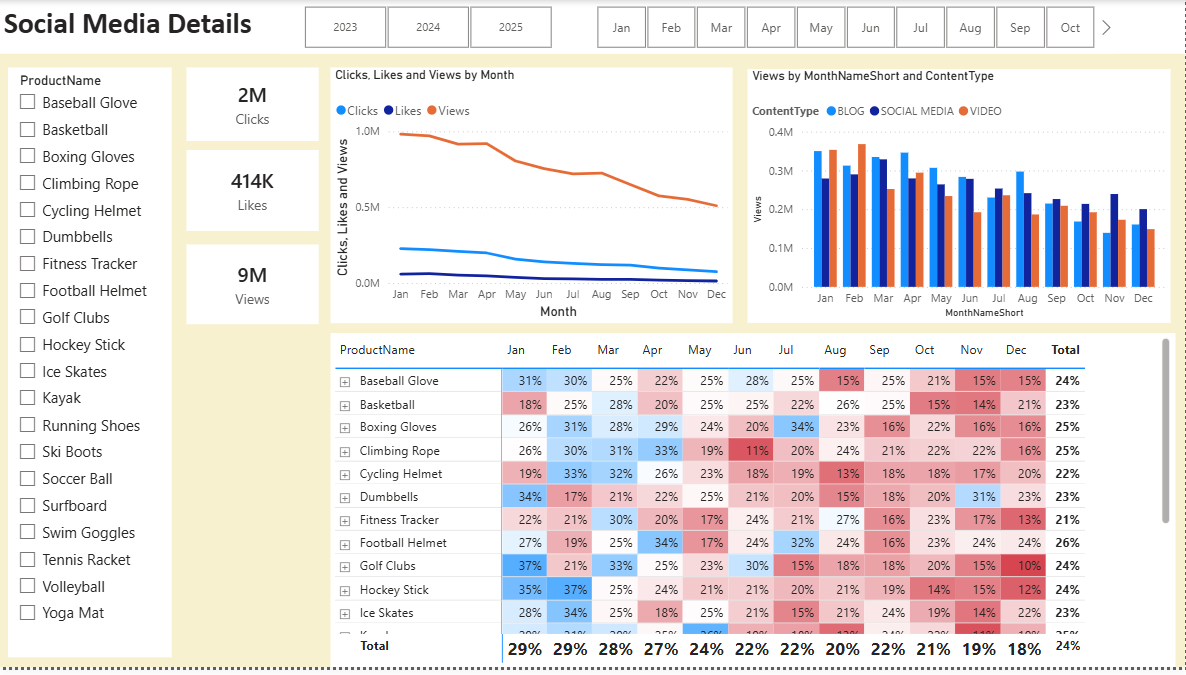

Layout of this report page (visuals, bound fields, positions):
{"tool":"powerbi","page":{"name":"Social Media Details","canvas":[1280,720],"ordinal":2},"visuals":[{"type":"textbox","box":[0,0,1280.8,58.3],"z":0},{"type":"slicer","fields":{"Values":["products_dim.ProductName"]},"box":[9.7,72.9,176.5,636.4],"z":1000},{"type":"cardVisual","fields":{"Data":["_Calculations.Clicks"]},"box":[202.3,72.8,142.5,79.3],"z":2000},{"type":"cardVisual","fields":{"Data":["_Calculations.Likes"]},"box":[202.9,162.6,142.5,87.4],"z":3000},{"type":"cardVisual","fields":{"Data":["_Calculations.Views"]},"box":[202.9,263.3,142.5,85.8],"z":4000},{"type":"slicer","fields":{"Values":["Calendar.Year"]},"box":[304.2,0,315.9,58.2],"z":5000},{"type":"slicer","fields":{"Values":["Calendar.MonthNameShort"]},"box":[619.6,0,586.2,58.3],"z":6000},{"type":"lineChart","fields":{"Category":["Calendar.MonthNameShort"],"Y":["_Calculations.Clicks","_Calculations.Likes","_Calculations.Views"]},"box":[357.8,72.8,433.7,275.7],"z":7000},{"type":"clusteredColumnChart","fields":{"Category":["Calendar.MonthNameShort"],"Series":["engagement_data_cleaned.ContentType"],"Y":["_Calculations.Views"]},"box":[808.6,74.4,457,274.2],"z":8000},{"type":"pivotTable","fields":{"Columns":["Calendar.MonthNameShort"],"Rows":["products_dim.ProductName","engagement_data_cleaned.ContentType"],"Values":["_Calculations.EngagementRate"]},"box":[358.1,359.5,911.2,361],"z":9000}]}

Visuals, with their boxes in screenshot pixels (x1, y1, x2, y2), scaled from the page's 1280x720 canvas onto the 1186x675 screenshot:
textbox: bbox(0, 0, 1185, 55)
slicer - products_dim.ProductName: bbox(9, 68, 173, 665)
cardVisual - _Calculations.Clicks: bbox(187, 68, 319, 143)
cardVisual - _Calculations.Likes: bbox(188, 152, 320, 234)
cardVisual - _Calculations.Views: bbox(188, 247, 320, 327)
slicer - Calendar.Year: bbox(282, 0, 575, 55)
slicer - Calendar.MonthNameShort: bbox(574, 0, 1117, 55)
lineChart - Calendar.MonthNameShort x _Calculations.Clicks: bbox(332, 68, 733, 327)
clusteredColumnChart - Calendar.MonthNameShort x engagement_data_cleaned.ContentType: bbox(749, 70, 1173, 327)
pivotTable - Calendar.MonthNameShort x products_dim.ProductName: bbox(332, 337, 1176, 674)
